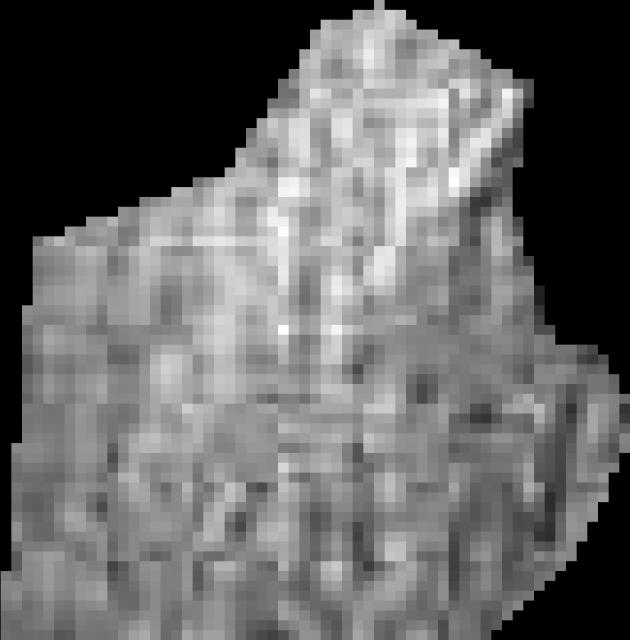tumor_good_chance: (1, 0, 630, 640)
